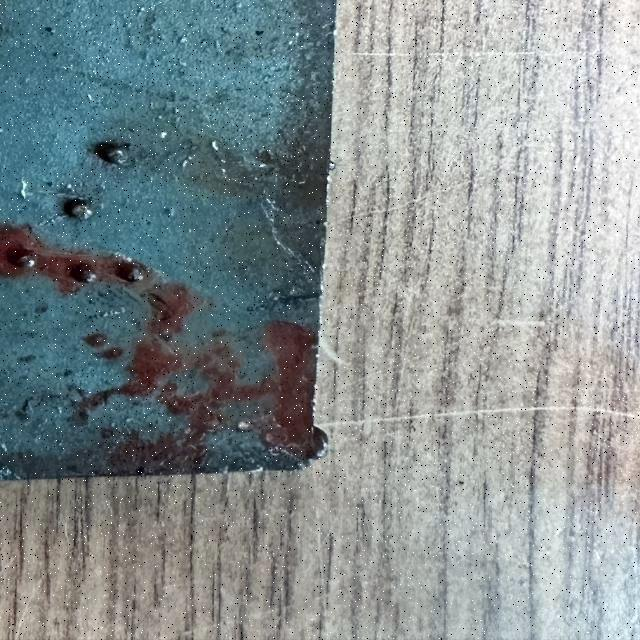Spatters: (93, 142, 133, 167), (307, 426, 328, 460), (115, 261, 145, 282), (63, 199, 93, 219), (7, 249, 37, 268), (70, 264, 97, 282), (238, 421, 253, 431), (33, 304, 47, 314), (328, 161, 337, 171), (45, 26, 53, 34), (137, 6, 145, 12), (52, 52, 58, 57)
